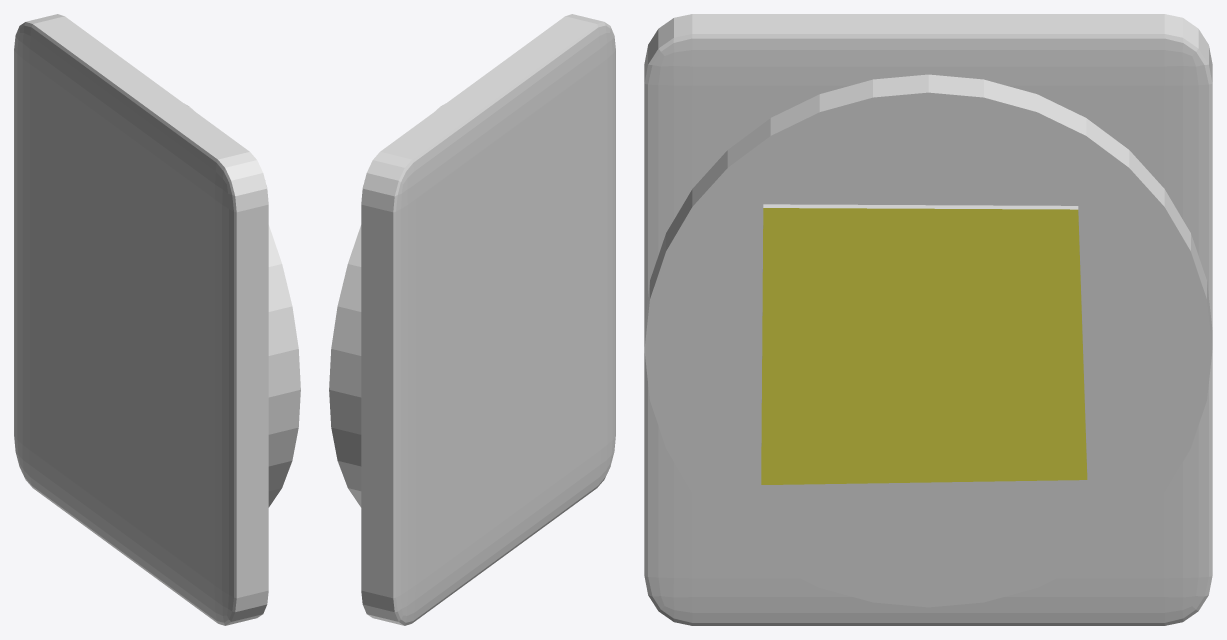
Rendered from Lightmodel.glb.
3 renders of one model, left to right at view 1: azimuth 30°, elevation 25°; view 2: azimuth 150°, elevation 25°; view 3: azimuth 270°, elevation 25°, orthographic. The views are drawn at different scales.
Parts seen in each view (by area): view 1: Cylinder; view 2: Cylinder; view 3: Cylinder.
Part boxes in pixels (left/top/right/bottom): Cylinder: left=14, top=14, right=300, bottom=625; Cylinder: left=329, top=14, right=615, bottom=625; Cylinder: left=644, top=14, right=1212, bottom=625.
Bounding box in the file's own units: 0.076 × 0.46 × 0.4.
